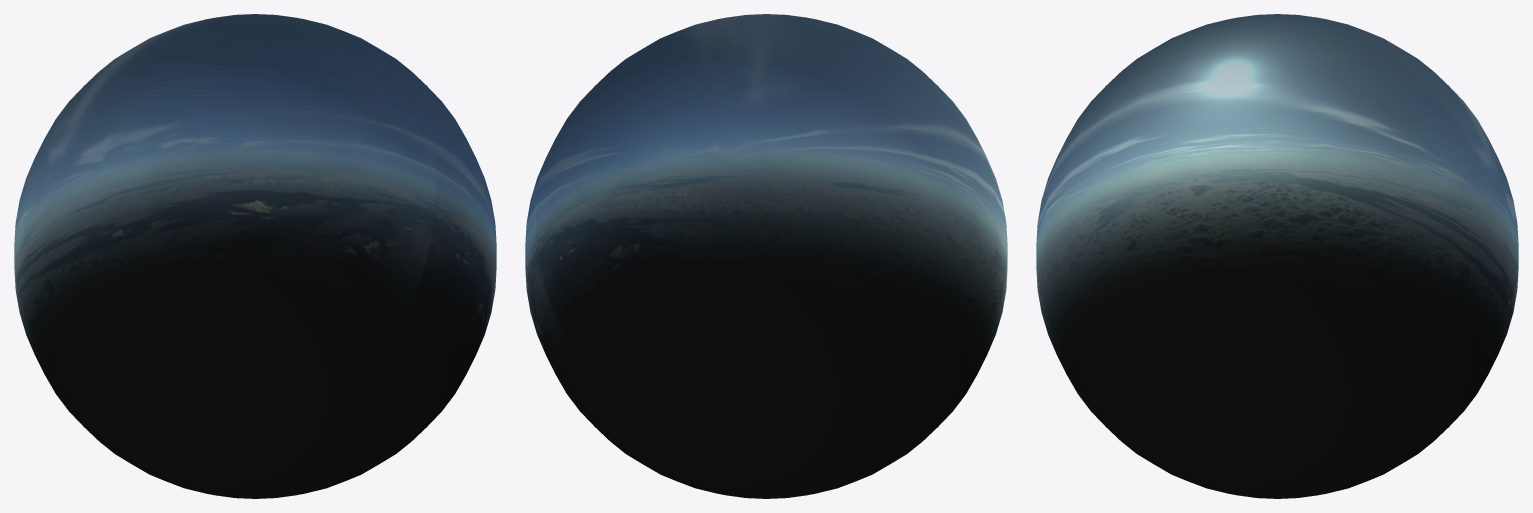
3 renders of one model, left to right at view 1: azimuth 30°, elevation 25°; view 2: azimuth 150°, elevation 25°; view 3: azimuth 270°, elevation 25°, orthographic.
Parts seen in each view (by area): view 1: pSphere1; view 2: pSphere1; view 3: pSphere1.
Part boxes in pixels (bbox=[...]): pSphere1: bbox=[14, 14, 496, 498]; pSphere1: bbox=[525, 14, 1007, 498]; pSphere1: bbox=[1036, 14, 1518, 498].
Bounding box in the file's own units: 428 × 428 × 425.
1 material, 1 textured.
